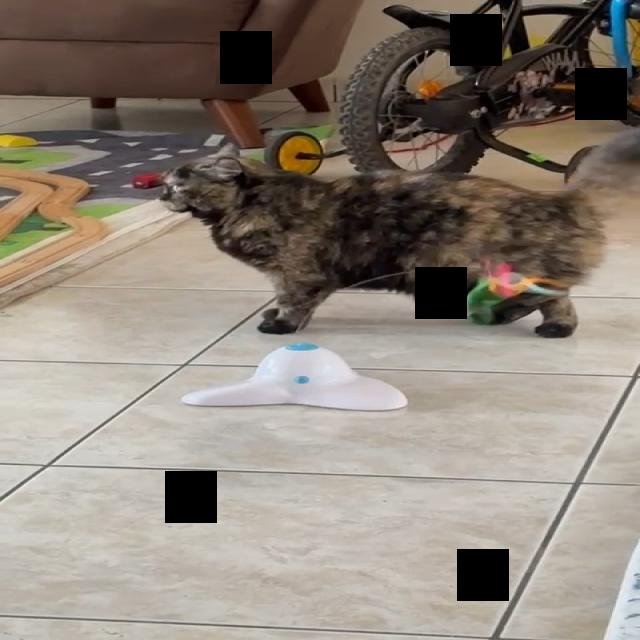authorized: (156, 141, 609, 338)
